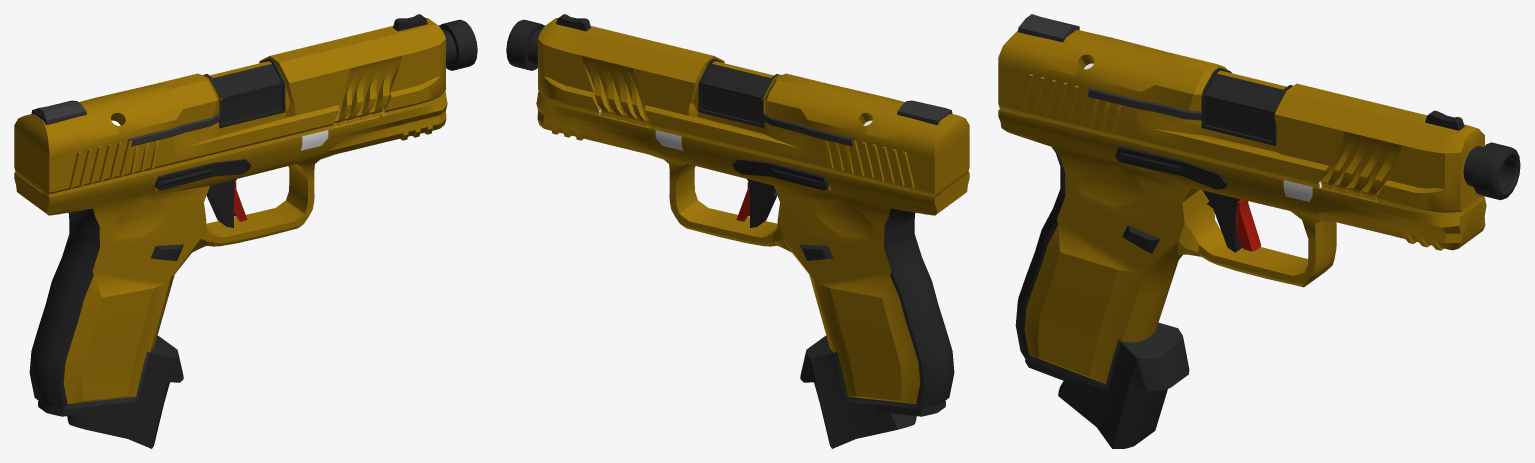
Rendered from Canit_TP9_Elite_Combat_Mesh.fbx.
3 views of the same model, side by side, from view 1: azimuth 30°, elevation 25°; view 2: azimuth 150°, elevation 25°; view 3: azimuth 330°, elevation 25° (orthographic). The views are drawn at different scales.
Parts seen in each view (by area): view 1: Canit_TP9_Elite_Combat; view 2: Canit_TP9_Elite_Combat; view 3: Canit_TP9_Elite_Combat.
Boxes of the visible parts, bbox=[...] form: Canit_TP9_Elite_Combat: bbox=[14, 14, 477, 448]; Canit_TP9_Elite_Combat: bbox=[506, 14, 969, 448]; Canit_TP9_Elite_Combat: bbox=[998, 14, 1520, 448].
Bounding box in the file's own units: 0.3367 × 0.2596 × 0.0534.
